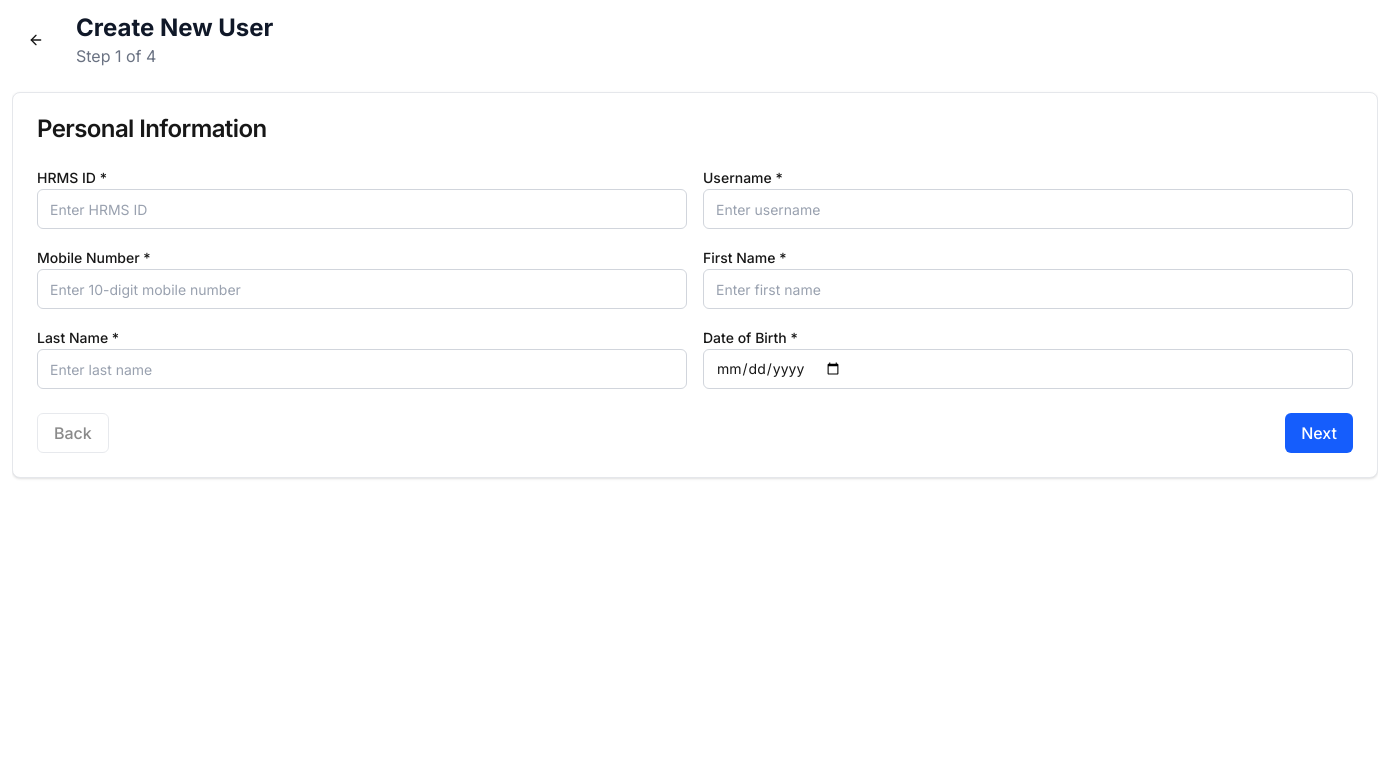
Test: User creation form › advances to location step when step 1 is valid
Type "123456" into the field labelled "HRMS ID *" at (362, 209), box [37,189,687,229]
Type "john.doe" into the field labelled "Username *" at (1028, 209), box [703,189,1353,229]
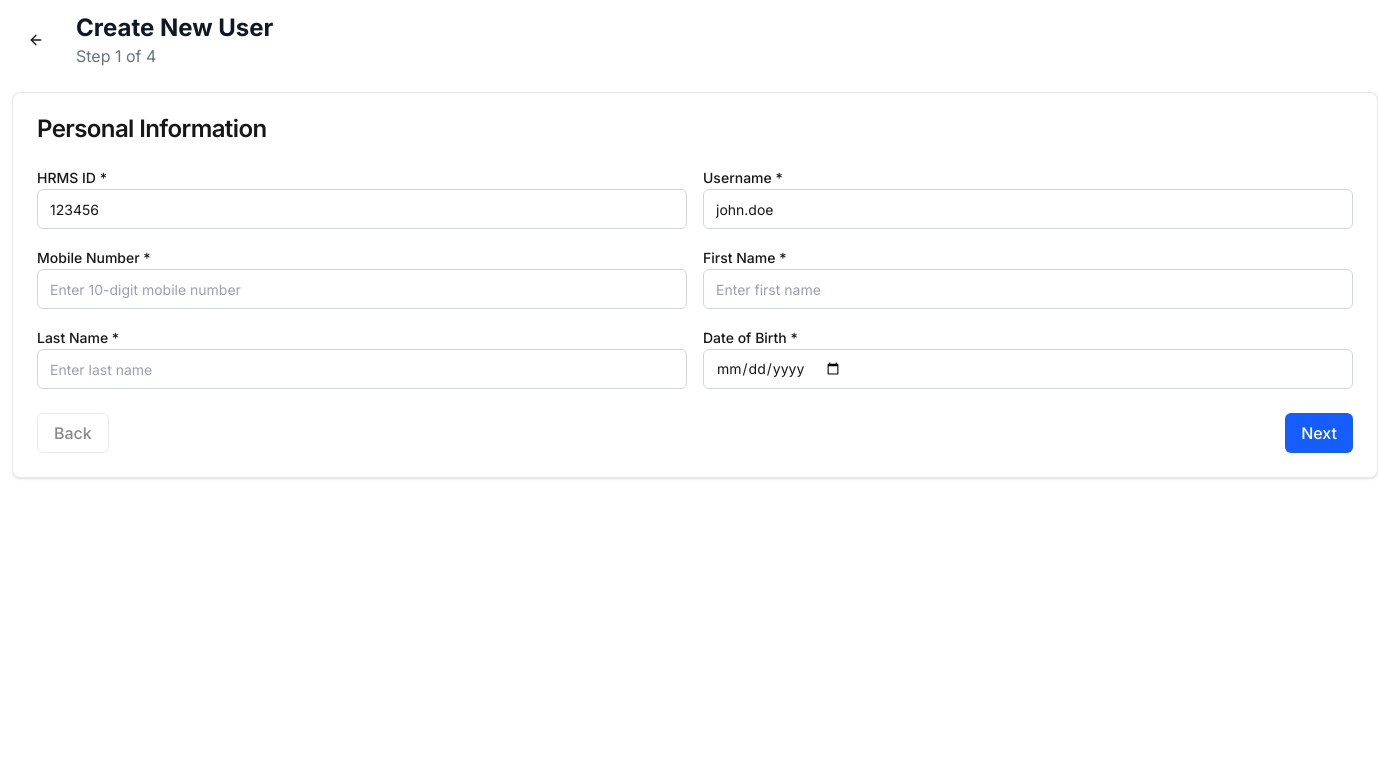
Type "9876543210" into the field labelled "Mobile Number *" at (362, 289), box [37,269,687,309]
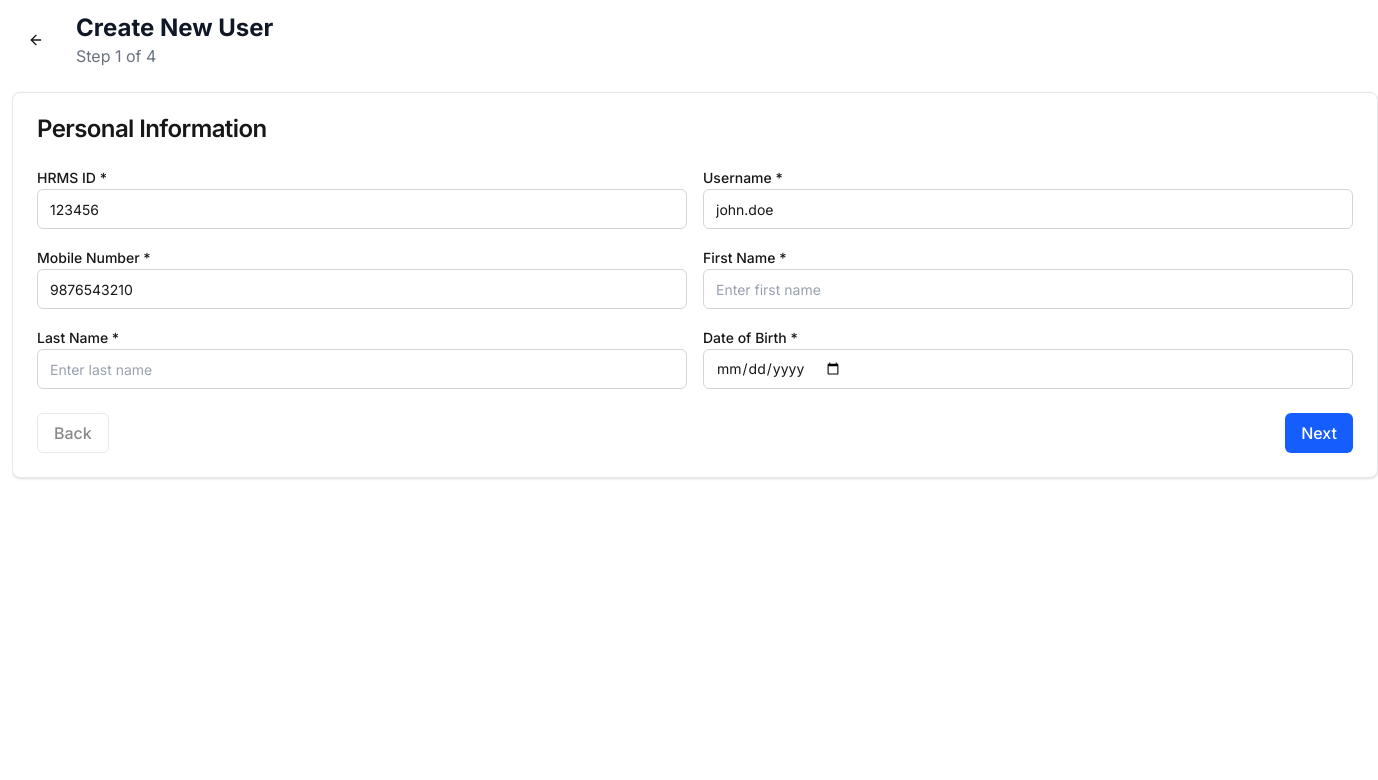
Type "John" into the field labelled "First Name *" at (1028, 289), box [703,269,1353,309]
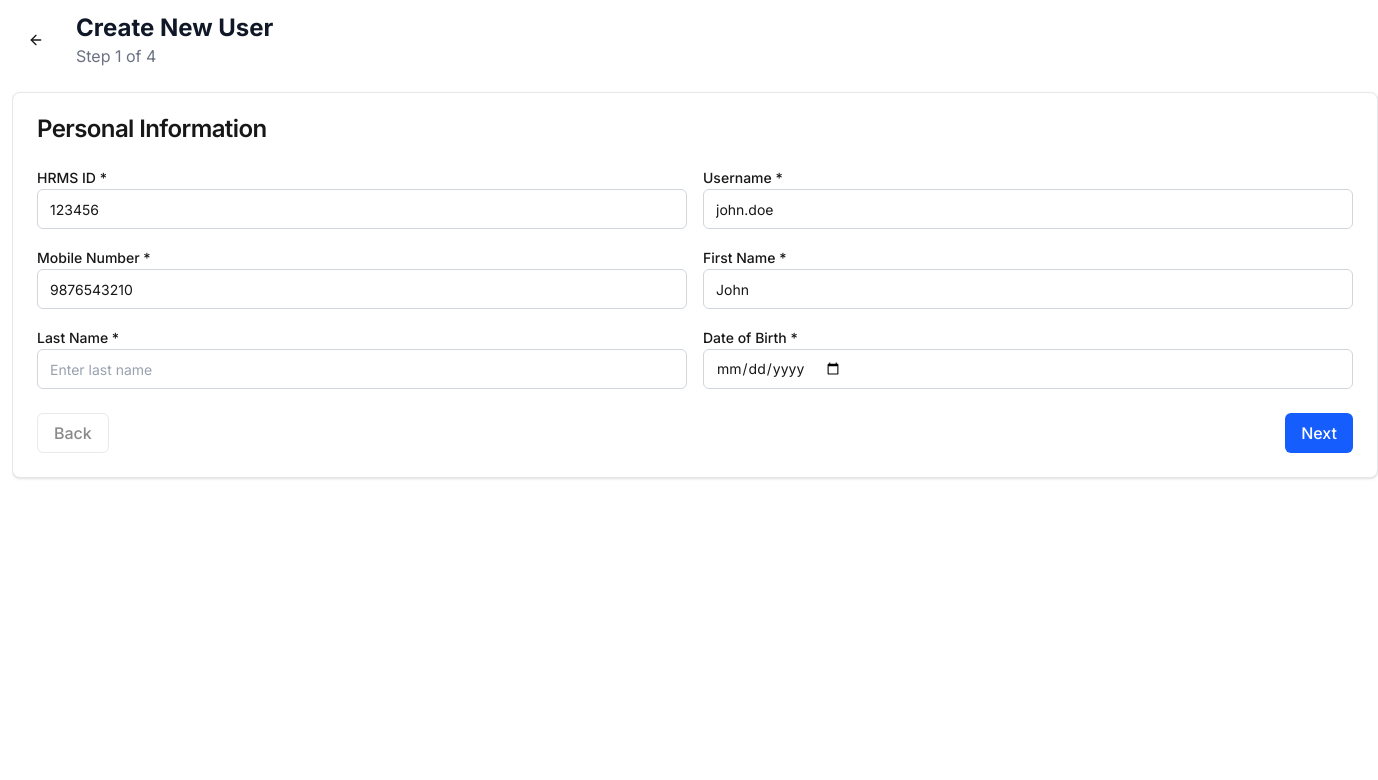
Type "Doe" into the field labelled "Last Name *" at (362, 369), box [37,349,687,389]
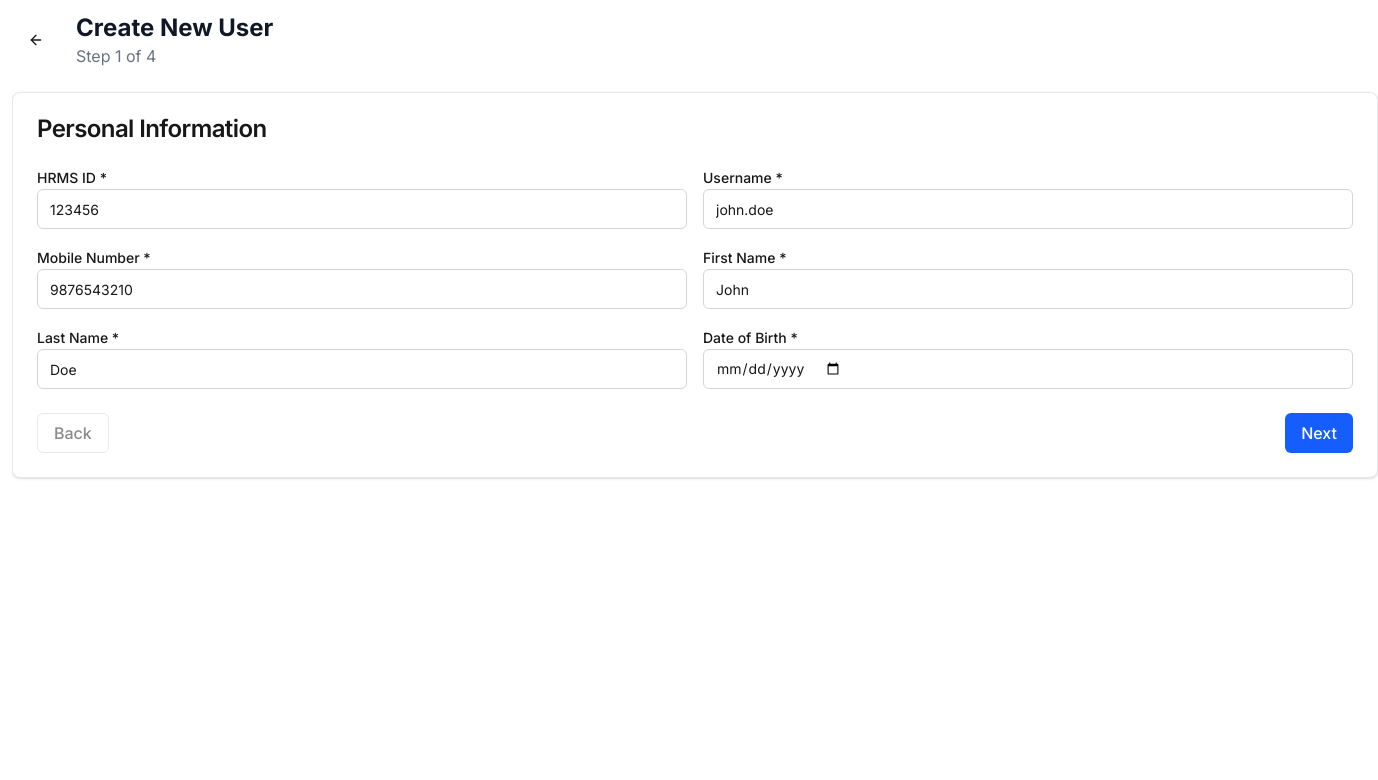
Type "1990-01-01" into the date field labelled "Date of Birth *" at (1028, 369), box [703,349,1353,389]
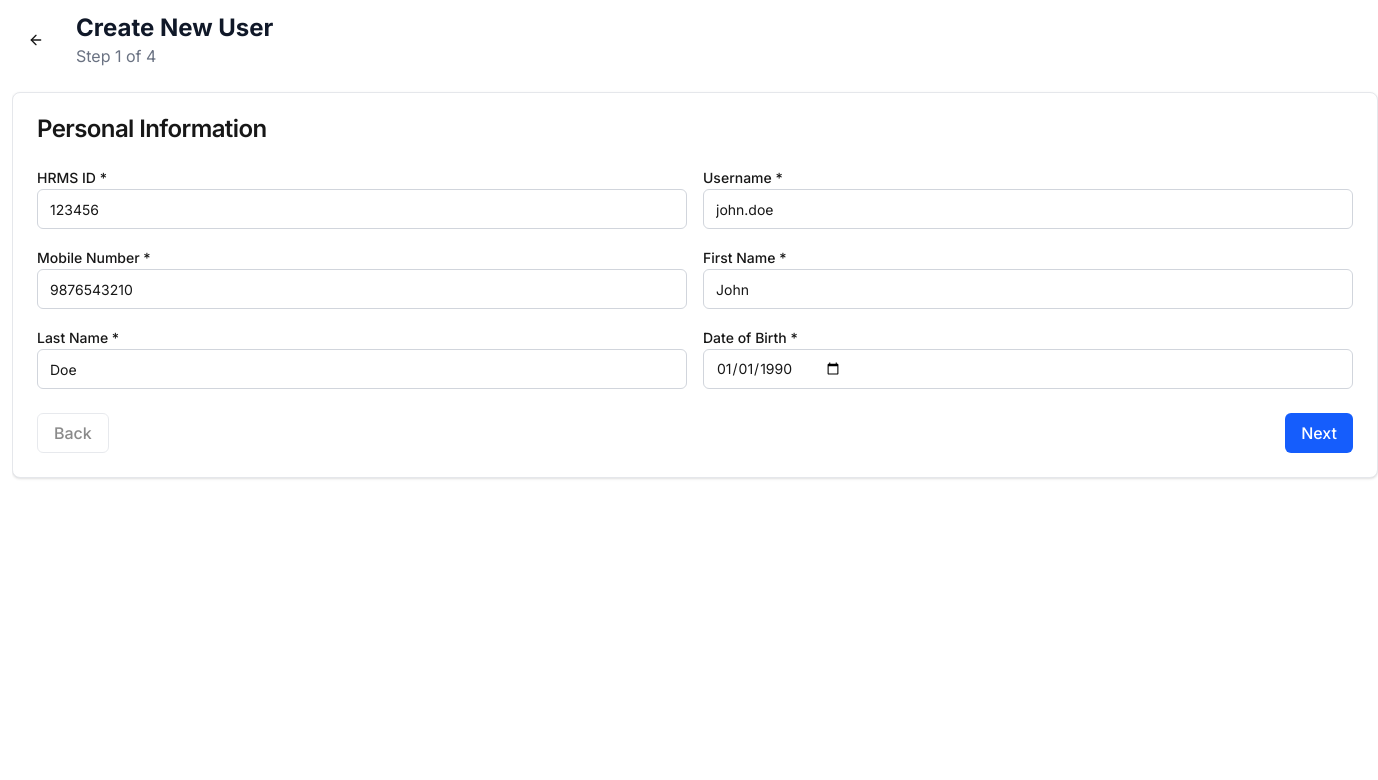
Click the button "Next" at (1319, 433), box [1285,413,1353,453]
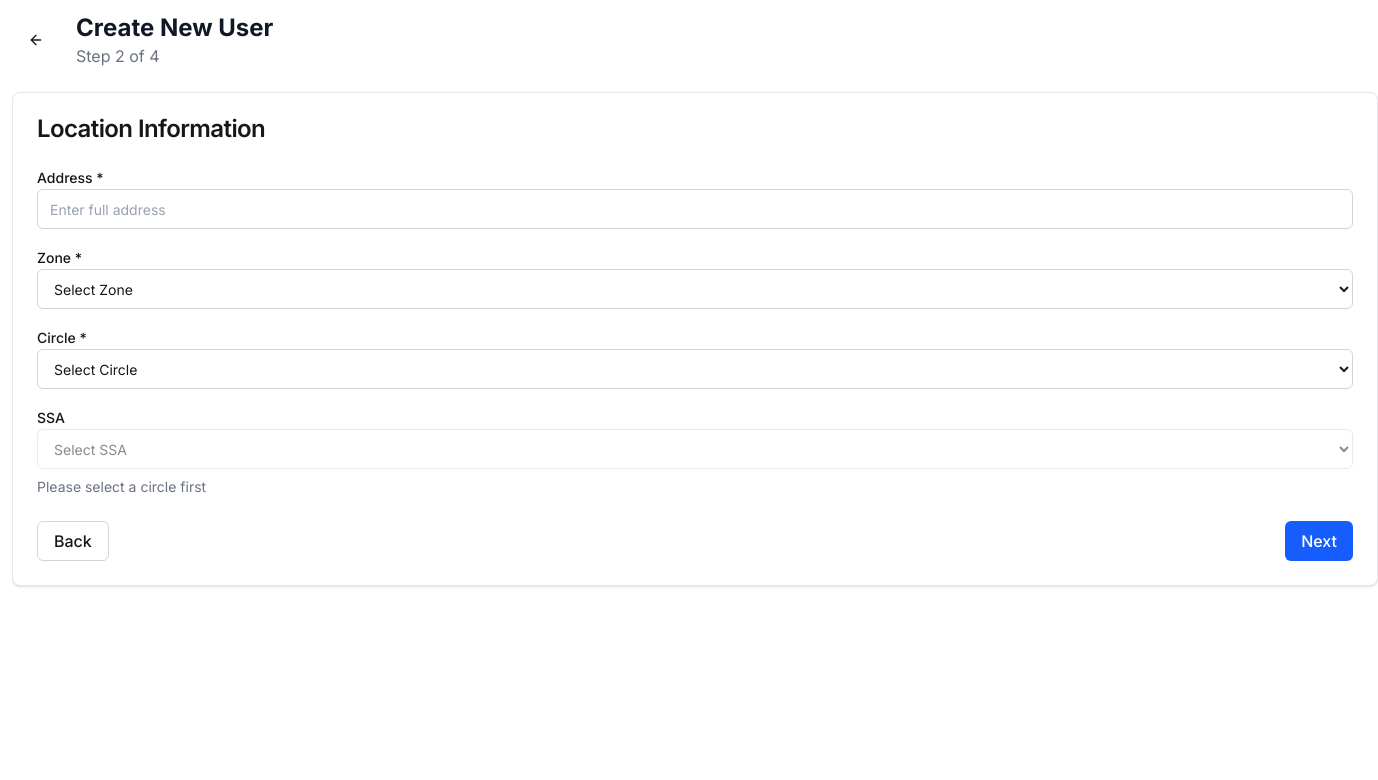
Check: the heading "Location Information" is shown, box [37,114,265,143]
Check: the field labelled "Address *" is shown, box [37,189,1353,229]
